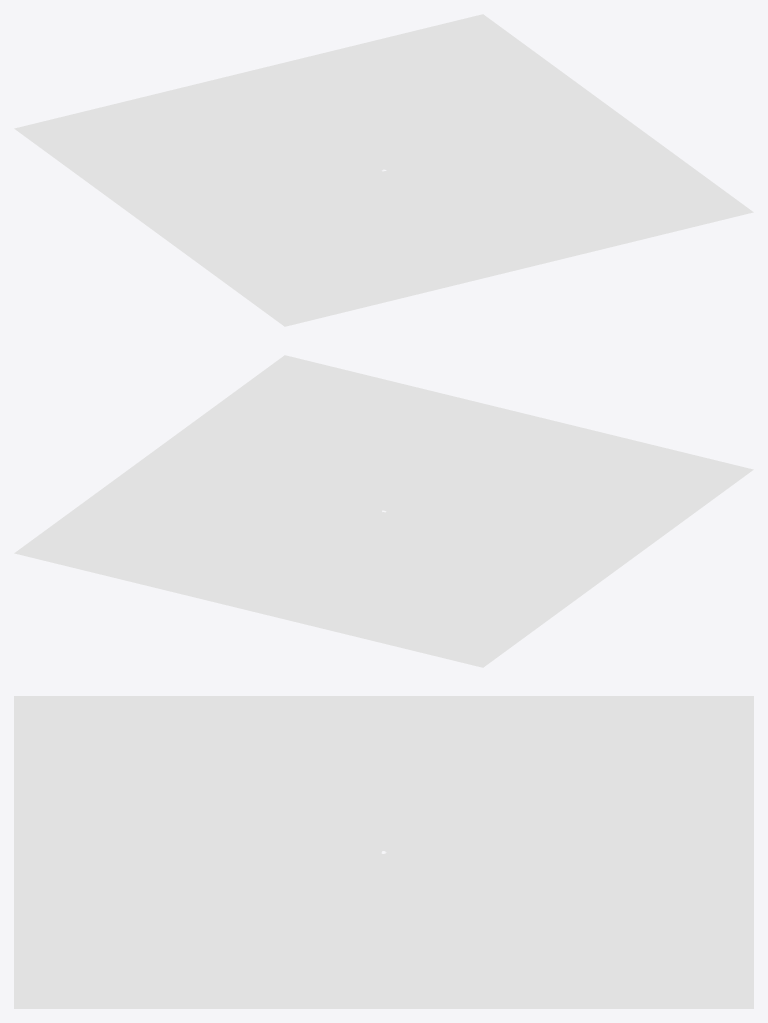
File: wipe_yoshi.glb
3 renders of one model, top to bottom at view 1: azimuth 30°, elevation 25°; view 2: azimuth 150°, elevation 25°; view 3: azimuth 270°, elevation 25°, orthographic. The views are drawn at different scales.
Parts seen in each view (by area): view 1: wipe_yoshi; view 2: wipe_yoshi; view 3: wipe_yoshi.
Part boxes in pixels (<box>): wipe_yoshi: <box>14,14,753,326</box>; wipe_yoshi: <box>14,355,753,667</box>; wipe_yoshi: <box>14,696,753,1008</box>.
Size of the model in its own units: 10 by 0 by 10.
1 material, 1 textured.
